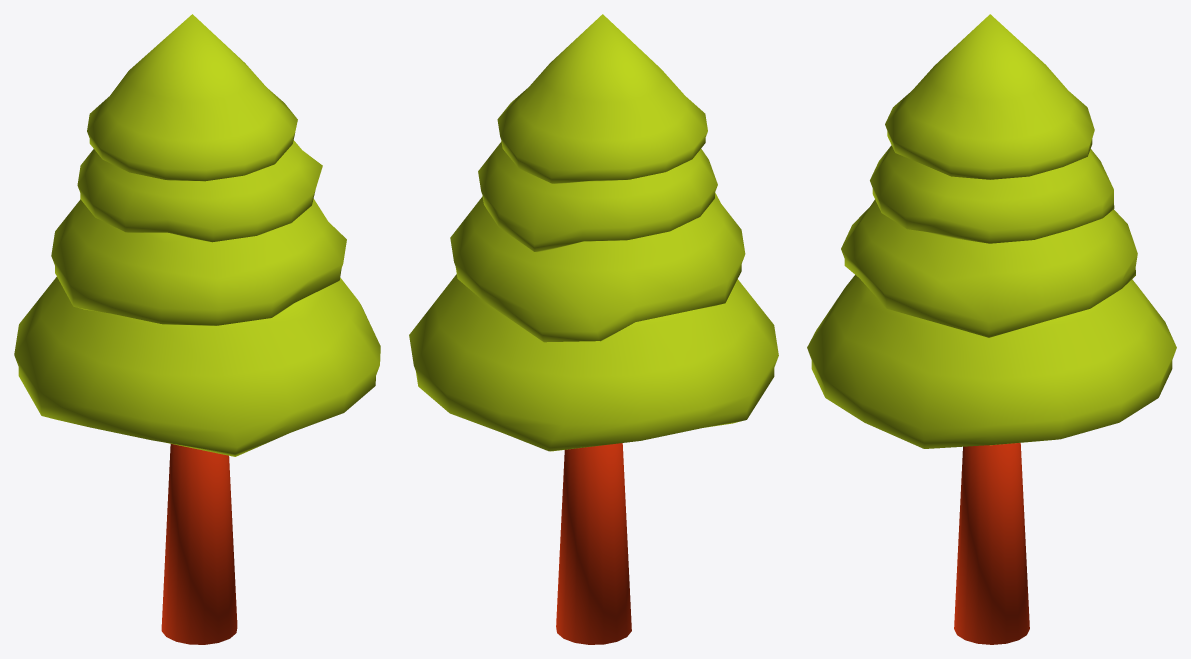
File: pineTree.fbx
3 renders of one model, left to right at view 1: azimuth 30°, elevation 25°; view 2: azimuth 150°, elevation 25°; view 3: azimuth 270°, elevation 25°, orthographic.
Parts seen in each view (by area): view 1: Cylinder.001, Cylinder.002, Cylinder.004, Cylinder.003, Cylinder; view 2: Cylinder.001, Cylinder.002, Cylinder.004, Cylinder.003, Cylinder; view 3: Cylinder.001, Cylinder.002, Cylinder.004, Cylinder.003, Cylinder.
Part boxes in pixels (x1=…): Cylinder.001: x1=14, y1=277, x2=380, y2=456; Cylinder.002: x1=51, y1=199, x2=346, y2=325; Cylinder.004: x1=87, y1=14, x2=297, y2=181; Cylinder.003: x1=77, y1=140, x2=322, y2=242; Cylinder: x1=161, y1=444, x2=237, y2=644; Cylinder.001: x1=409, y1=274, x2=778, y2=451; Cylinder.002: x1=450, y1=192, x2=745, y2=342; Cylinder.004: x1=497, y1=14, x2=707, y2=183; Cylinder.003: x1=478, y1=141, x2=717, y2=252; Cylinder: x1=556, y1=443, x2=631, y2=644; Cylinder.001: x1=807, y1=275, x2=1176, y2=448; Cylinder.002: x1=841, y1=199, x2=1137, y2=337; Cylinder.004: x1=885, y1=14, x2=1094, y2=179; Cylinder.003: x1=870, y1=145, x2=1114, y2=243; Cylinder: x1=954, y1=443, x2=1029, y2=644.
Size of the model in its own units: 971 by 1778 by 975.
